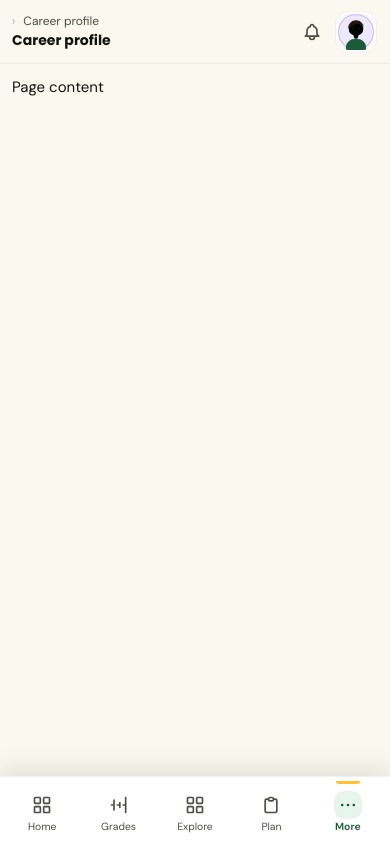
Test: authenticated shell layout › marks only the most specific More destination as current
Click the button "More". click: (348, 812)
box: [310,781,386,843]
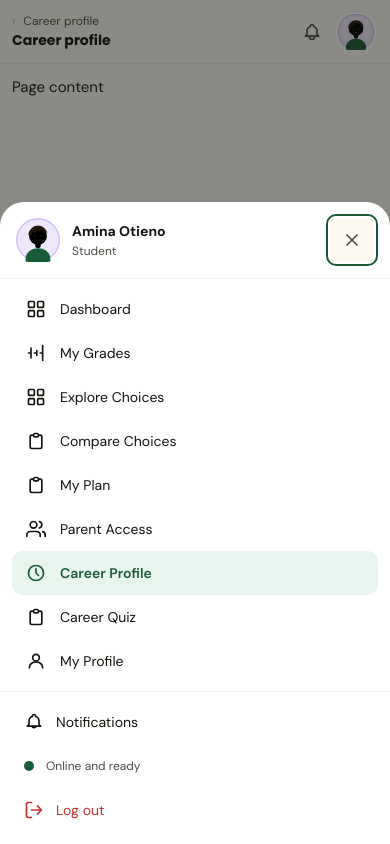
Expected: the link "Career Profile" is shown, [12,551,378,595]
